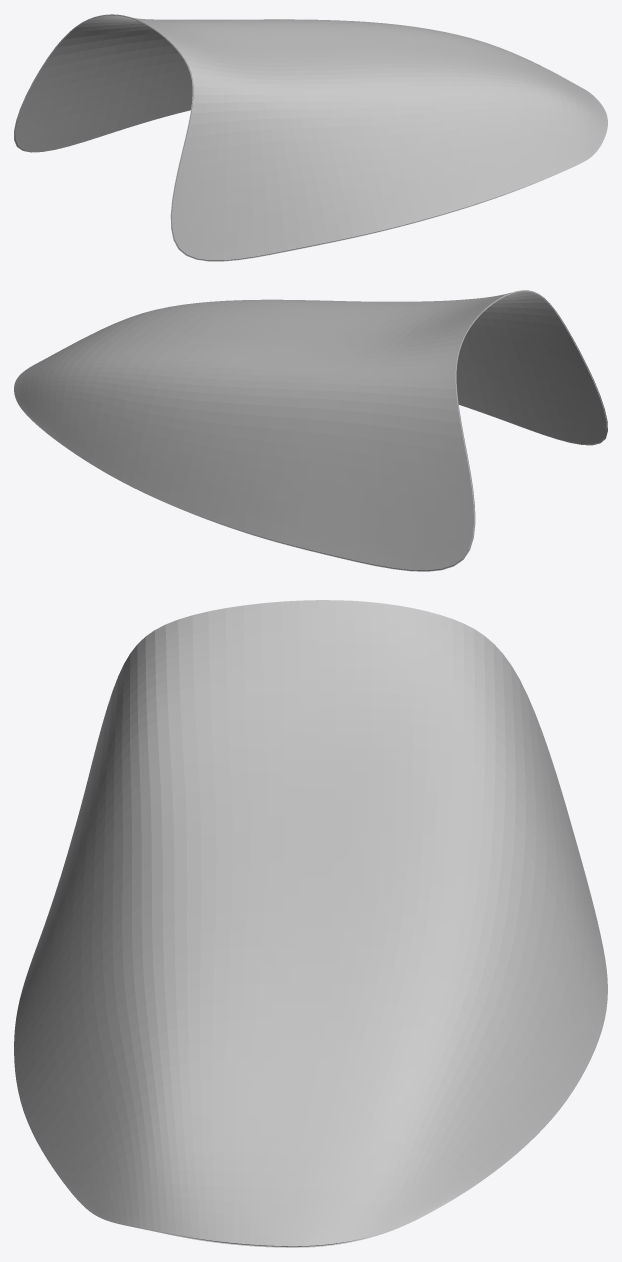
Rendered from frontLeftGREY.obj.
3 renders of one model, top to bottom at view 1: azimuth 30°, elevation 25°; view 2: azimuth 150°, elevation 25°; view 3: azimuth 270°, elevation 25°, orthographic. The views are drawn at different scales.
Visible parts, largest first — view 1: Plane; view 2: Plane; view 3: Plane.
Part boxes in pixels (x1=…): Plane: x1=14, y1=14, x2=607, y2=261; Plane: x1=14, y1=290, x2=607, y2=571; Plane: x1=14, y1=600, x2=607, y2=1247.
Size of the model in its own units: 15.97 by 5.59 by 9.72.
Materials: 1 (1 with a texture image).
